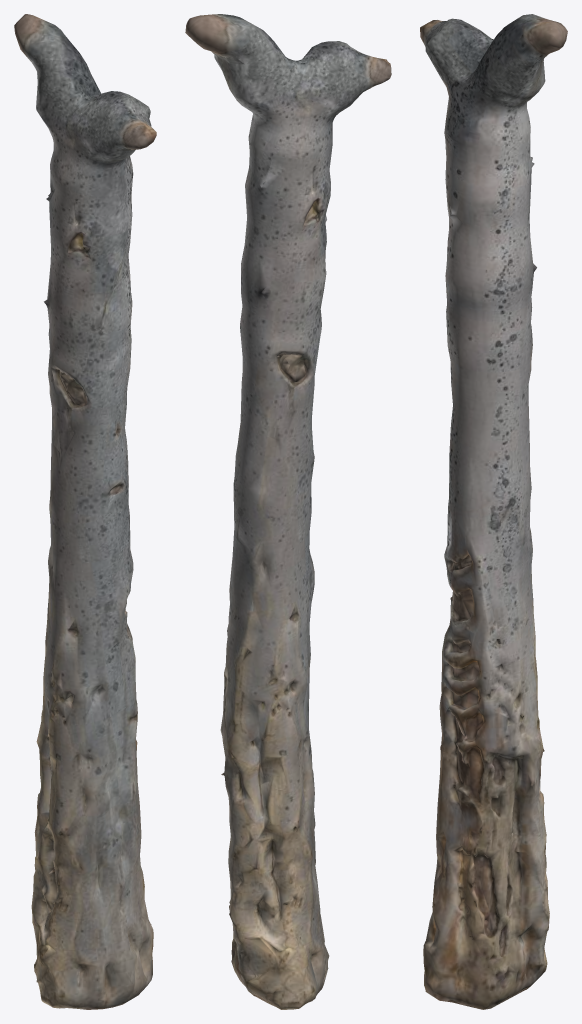
Rendered from trunk-quiver-dead.2b1e658b.glb.
3 renders of one model, left to right at view 1: azimuth 90°, elevation 25°; view 2: azimuth 150°, elevation 25°; view 3: azimuth 270°, elevation 25°, orthographic. The views are drawn at different scales.
Parts seen in each view (by area): view 1: model; view 2: model; view 3: model.
Part boxes in pixels (x1,y1,x2,y2): model: (14,14,156,1009); model: (185,14,391,1009); model: (420,14,567,1009).
Bounding box in the file's own units: 0.3065 × 1.99 × 0.2681.
1 material, 1 textured.
